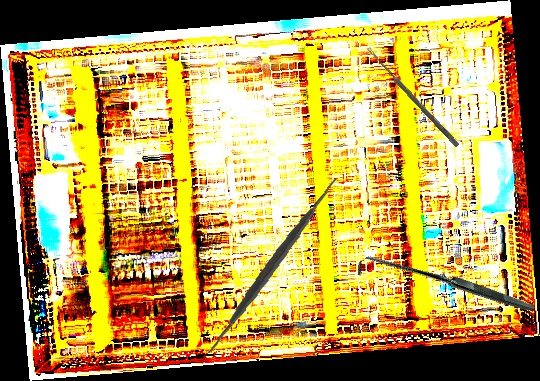Hook Surgical: (352, 195, 536, 379)
Spatula Surgical: (184, 176, 362, 355)
Surgical Spoon: (365, 46, 461, 148)
